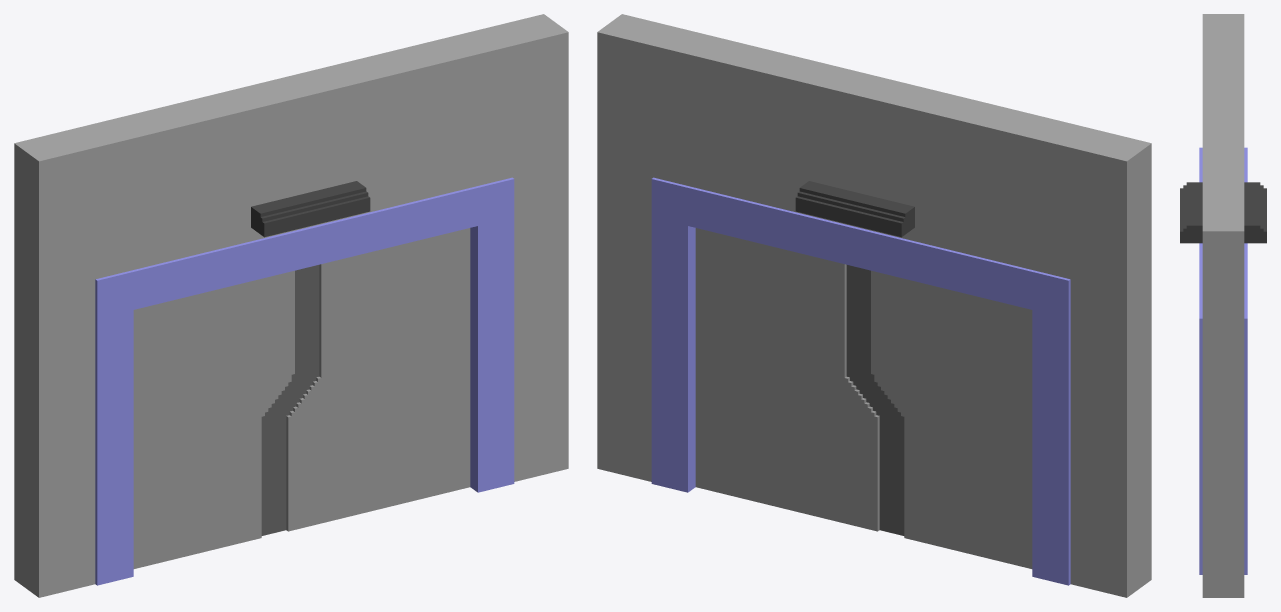
The model's file is Operating_room_Door2-4-1.fbx.
3 views of the same model, side by side, from view 1: azimuth 30°, elevation 25°; view 2: azimuth 150°, elevation 25°; view 3: azimuth 270°, elevation 25° (orthographic). The views are drawn at different scales.
Visible parts, largest first — view 1: Operating room Door2-4-1.002, Operating room Door2-4-1.004, Operating room Door2-4-1.001, Operating room Door2-4-1.003, Operating room Door2-4-1; view 2: Operating room Door2-4-1.002, Operating room Door2-4-1.004, Operating room Door2-4-1.001, Operating room Door2-4-1.003, Operating room Door2-4-1; view 3: Operating room Door2-4-1, Operating room Door2-4-1.002, Operating room Door2-4-1.003.
Boxes of the visible parts, x1,y1,x2,y2 form: Operating room Door2-4-1.002: [71, 28, 514, 585]; Operating room Door2-4-1.004: [273, 228, 470, 533]; Operating room Door2-4-1.001: [133, 268, 306, 568]; Operating room Door2-4-1.003: [14, 129, 95, 597]; Operating room Door2-4-1: [488, 14, 568, 481]; Operating room Door2-4-1.002: [651, 28, 1094, 585]; Operating room Door2-4-1.004: [695, 228, 892, 533]; Operating room Door2-4-1.001: [859, 268, 1032, 568]; Operating room Door2-4-1.003: [1070, 129, 1151, 597]; Operating room Door2-4-1: [597, 14, 677, 481]; Operating room Door2-4-1: [1202, 208, 1244, 597]; Operating room Door2-4-1.002: [1180, 37, 1266, 574]; Operating room Door2-4-1.003: [1202, 14, 1244, 36].
Size of the model in its own units: 16 by 12.6 by 2.7.
